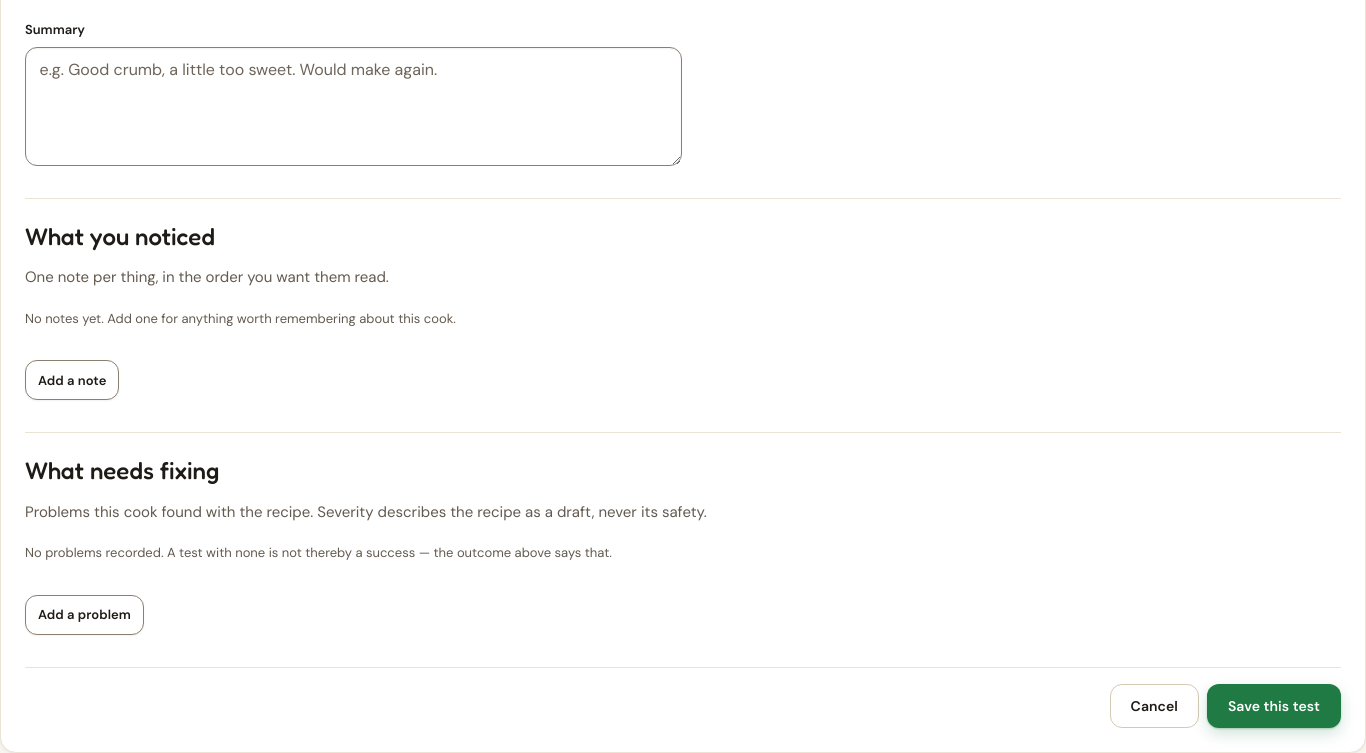
Test case: RecipeTestRunFormComponent › names the missing version when the history moved on
(page scrolled)
Click the submit button.
click(1274, 706)  # box [1207, 684, 1341, 728]
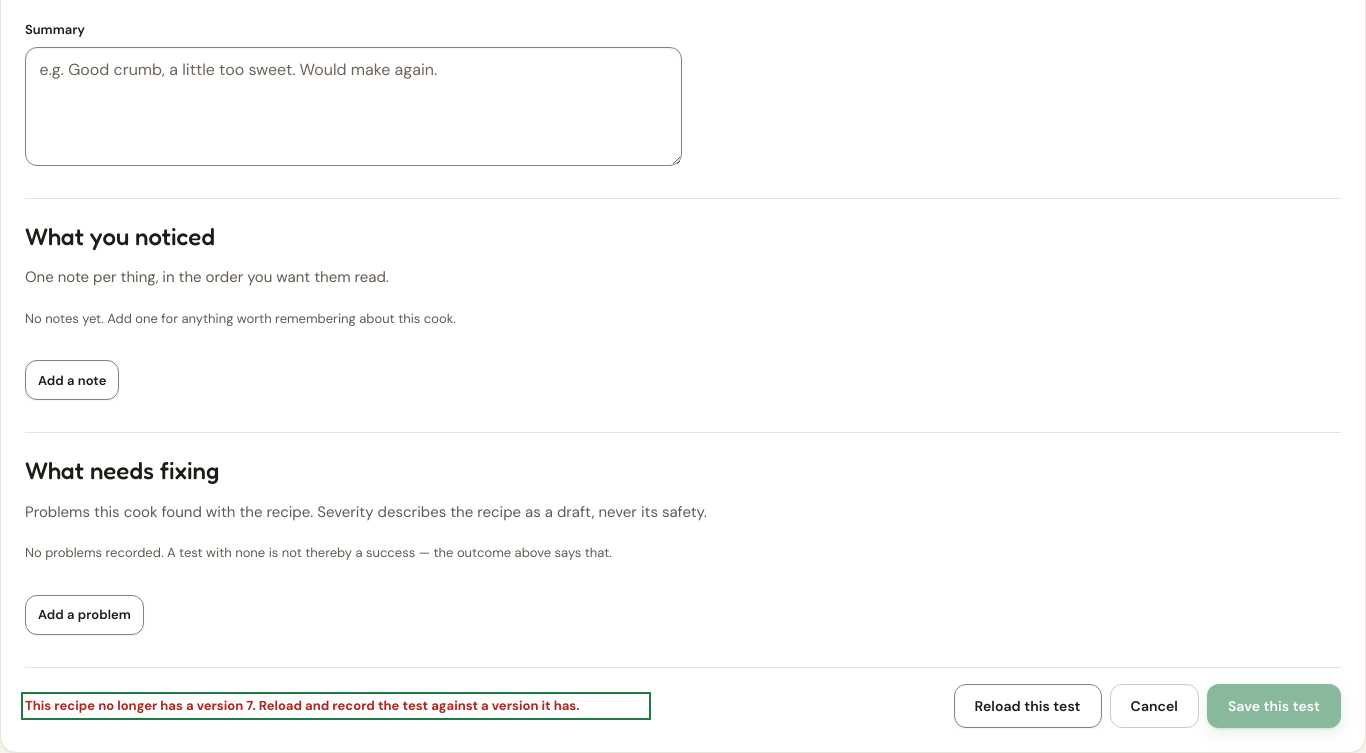
Now the text "no longer has a version 7" is shown, box [25, 697, 580, 714]
Now the button "Reload this test" is shown, box [954, 684, 1102, 728]
